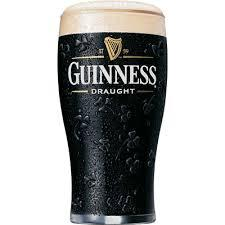beer: (56, 1, 164, 223)
